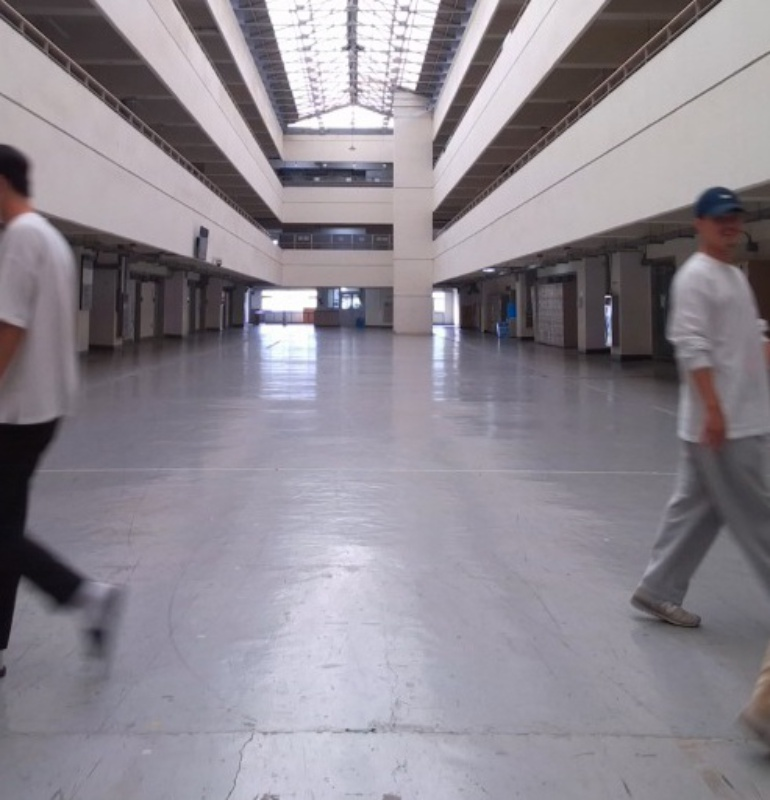person: (627, 186, 770, 628)
